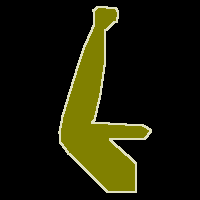tie: (59, 6, 151, 192)
